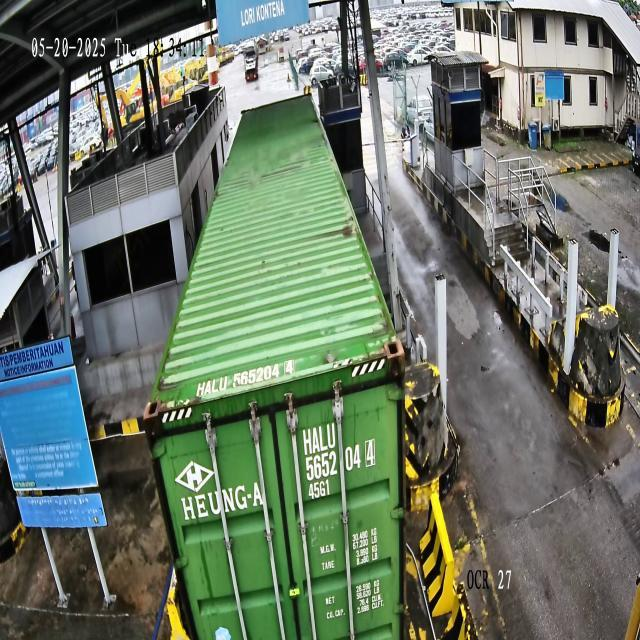ISO: (307, 477, 331, 502)
container_number: (302, 422, 377, 481)
